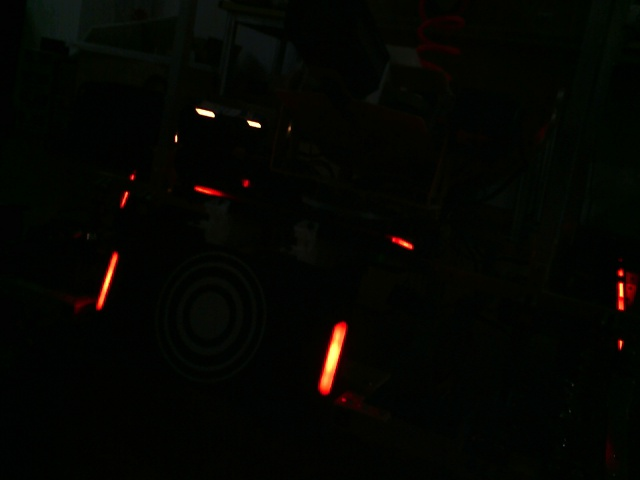lamp: (317, 321, 349, 395), (83, 250, 119, 312)
